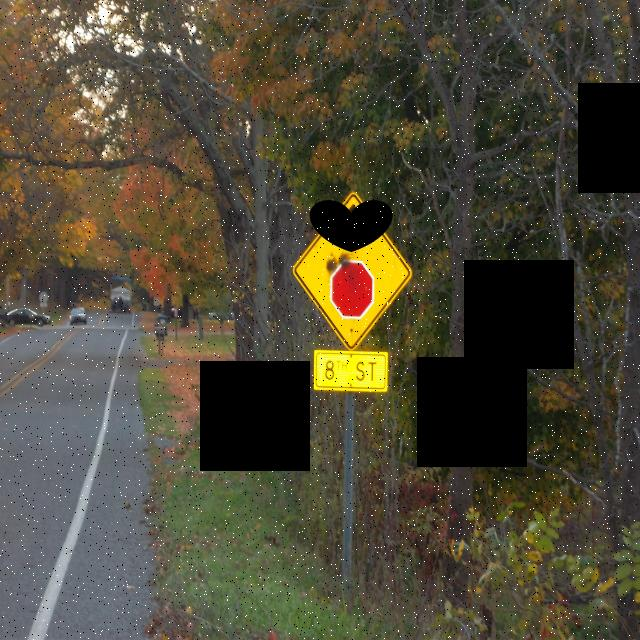warning: (288, 184, 417, 348), (310, 342, 394, 402)
